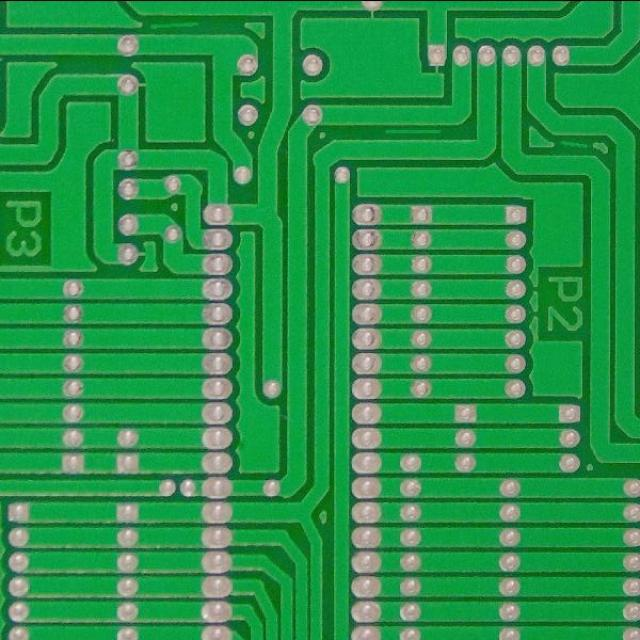Spurious_Cooper: (382, 124, 444, 138), (146, 17, 202, 32), (557, 136, 591, 150)
